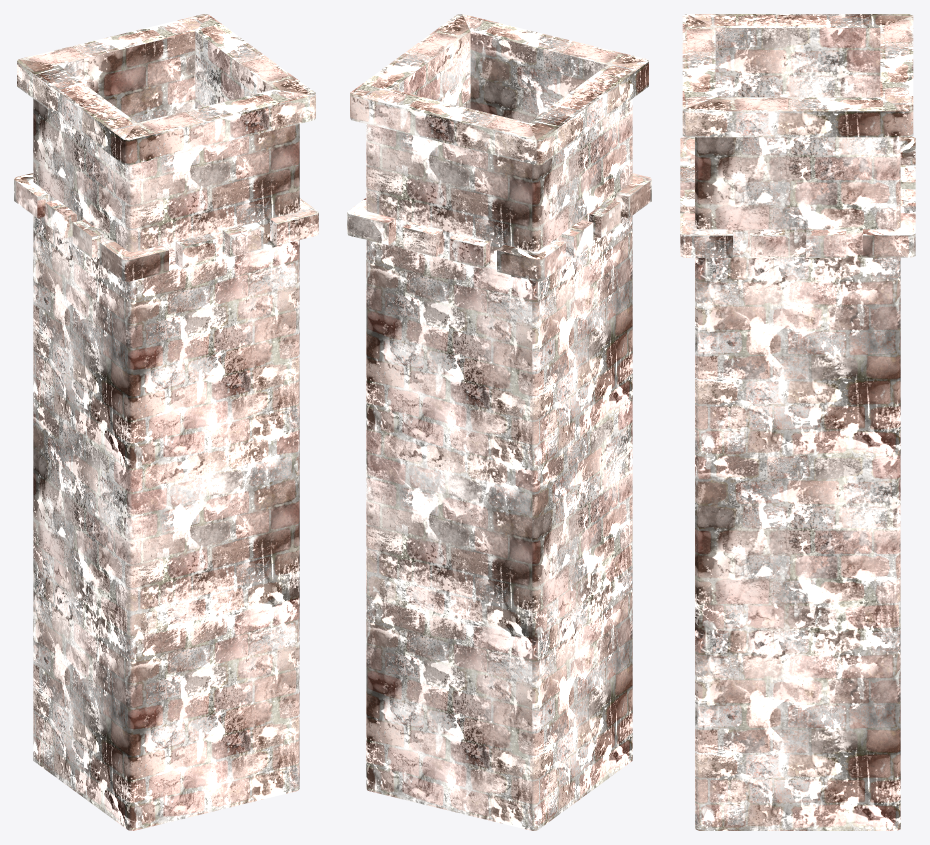
Rendered from SM_chimney_03.fbx.
3 views of the same model, side by side, from view 1: azimuth 30°, elevation 25°; view 2: azimuth 150°, elevation 25°; view 3: azimuth 270°, elevation 25° (orthographic). The views are drawn at different scales.
Visible parts, largest first — view 1: SM_chimney_03_LOD0; view 2: SM_chimney_03_LOD0; view 3: SM_chimney_03_LOD0.
Boxes of the visible parts, left/top/right/bottom form: SM_chimney_03_LOD0: left=14, top=14, right=318, bottom=830; SM_chimney_03_LOD0: left=347, top=14, right=651, bottom=830; SM_chimney_03_LOD0: left=680, top=14, right=915, bottom=830.
Size of the model in its own units: 114 by 114 by 389.
1 material, 1 textured.
